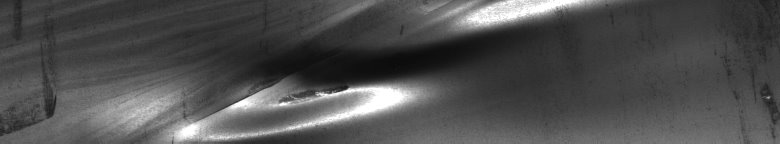ke: (183, 4, 605, 136)
